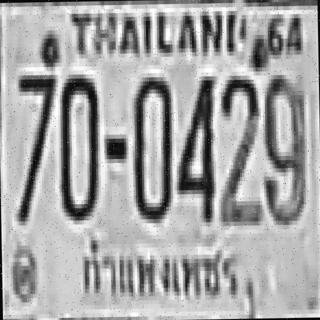N00: (57, 70, 99, 216), (131, 73, 171, 219)
N02: (218, 71, 258, 222)
N04: (175, 72, 214, 218)
N07: (15, 71, 57, 221)
N09: (261, 70, 305, 221)
P16: (76, 234, 241, 306)
